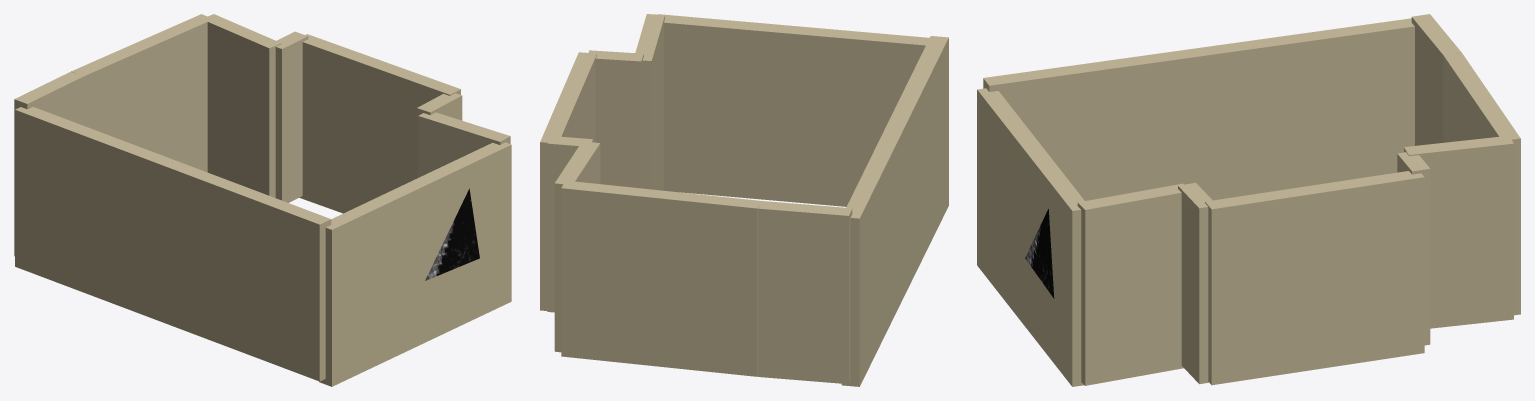
The picture shows the model from 3 angles, left to right: view 1: azimuth 30°, elevation 25°; view 2: azimuth 150°, elevation 25°; view 3: azimuth 270°, elevation 25°; orthographic projection. The views are drawn at different scales.
Visible parts, largest first — view 1: _MeshInstance3D_922, _MeshInstance3D_920, _MeshInstance3D_932, _MeshInstance3D_926, _MeshInstance3D_928, _MeshInstance3D_930, _MeshInstance3D_918, _MeshInstance3D_924, addeds, cube; view 2: _MeshInstance3D_920, _MeshInstance3D_926, _MeshInstance3D_922, _MeshInstance3D_924, cube, _MeshInstance3D_932, _MeshInstance3D_918, _MeshInstance3D_928, _MeshInstance3D_930; view 3: _MeshInstance3D_922, _MeshInstance3D_932, _MeshInstance3D_920, _MeshInstance3D_918, _MeshInstance3D_928, _MeshInstance3D_926, cube, _MeshInstance3D_924, _MeshInstance3D_930, addeds.
Part boxes in pixels (bbox=[...]): _MeshInstance3D_922: bbox=[15, 107, 331, 381]; _MeshInstance3D_920: bbox=[319, 142, 511, 386]; _MeshInstance3D_932: bbox=[299, 34, 460, 213]; _MeshInstance3D_926: bbox=[71, 14, 212, 172]; _MeshInstance3D_928: bbox=[202, 14, 281, 197]; _MeshInstance3D_930: bbox=[275, 31, 308, 202]; _MeshInstance3D_918: bbox=[418, 112, 510, 177]; _MeshInstance3D_924: bbox=[14, 71, 83, 256]; addeds: bbox=[425, 188, 479, 280]; cube: bbox=[416, 93, 462, 178]; _MeshInstance3D_920: bbox=[657, 14, 929, 206]; _MeshInstance3D_926: bbox=[561, 180, 761, 376]; _MeshInstance3D_922: bbox=[841, 36, 948, 386]; _MeshInstance3D_924: bbox=[758, 201, 852, 384]; cube: bbox=[588, 50, 643, 188]; _MeshInstance3D_932: bbox=[540, 52, 596, 310]; _MeshInstance3D_918: bbox=[635, 14, 664, 190]; _MeshInstance3D_928: bbox=[554, 141, 600, 352]; _MeshInstance3D_930: bbox=[547, 136, 593, 312]; _MeshInstance3D_922: bbox=[983, 18, 1414, 200]; _MeshInstance3D_932: bbox=[1205, 171, 1424, 385]; _MeshInstance3D_920: bbox=[977, 88, 1084, 386]; _MeshInstance3D_918: bbox=[1077, 183, 1183, 385]; _MeshInstance3D_928: bbox=[1404, 137, 1513, 328]; _MeshInstance3D_926: bbox=[1443, 53, 1520, 315]; cube: bbox=[1178, 182, 1212, 384]; _MeshInstance3D_924: bbox=[1411, 14, 1461, 145]; _MeshInstance3D_930: bbox=[1397, 152, 1430, 345]; addeds: bbox=[1025, 209, 1054, 298].
Bounding box in the file's own units: 23.6 × 10.7 × 28.01.
Materials: 2 (1 with a texture image).
